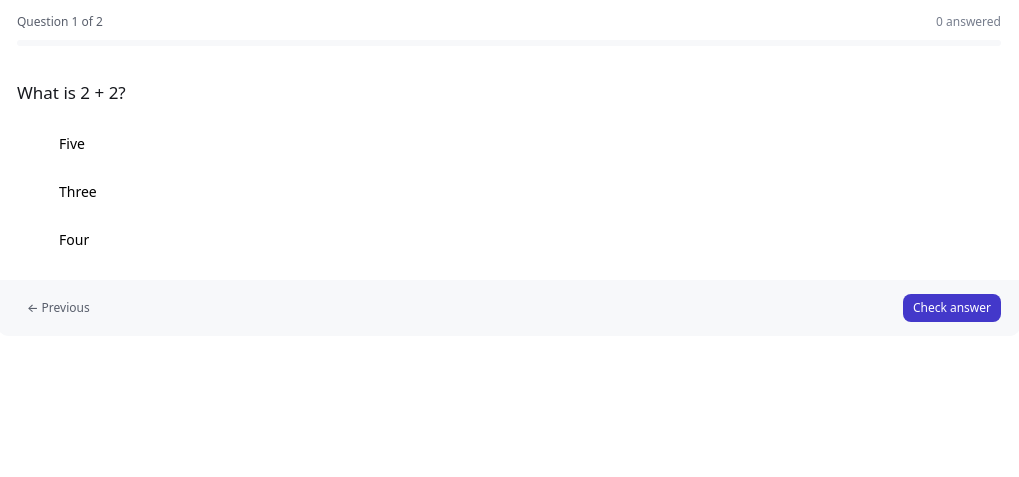
Quiz — the answer is never shown before the learner commits › shows "Not quite" and still explains when the answer is wrong
Click the radio button labelled "Three".
click(78, 191)  # box top-left (17, 172), bottom-right (1001, 212)
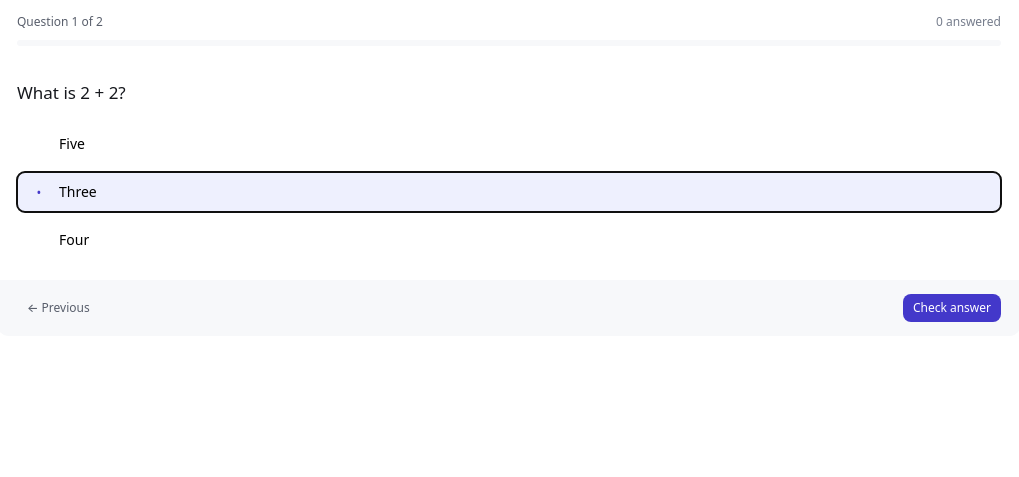
Click the button "Check answer".
click(952, 308)  # box top-left (903, 294), bottom-right (1001, 322)
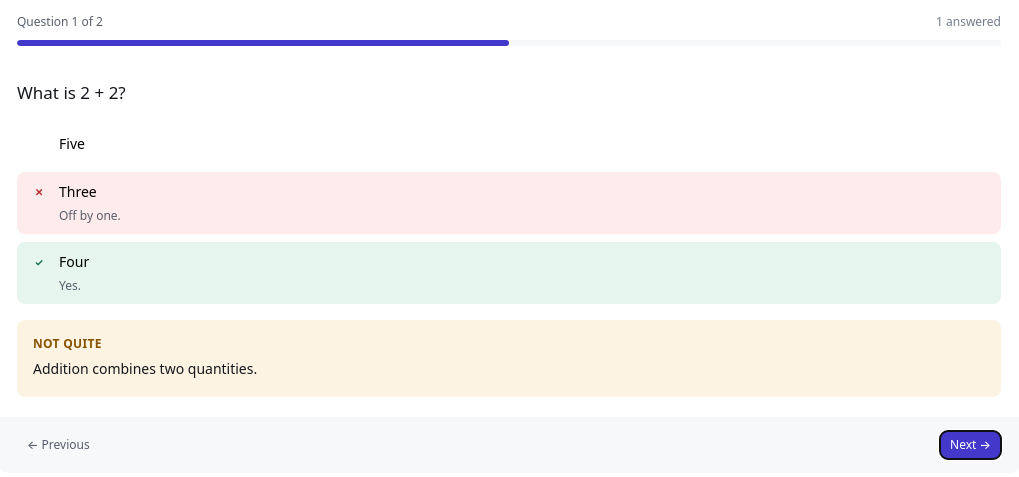
Result: the text "Not quite" is shown at top-left (33, 335), bottom-right (102, 352)
Result: the text "Addition combines two quantities." is shown at top-left (33, 359), bottom-right (257, 378)
Result: the text "Off by one." is shown at top-left (59, 208), bottom-right (121, 224)
